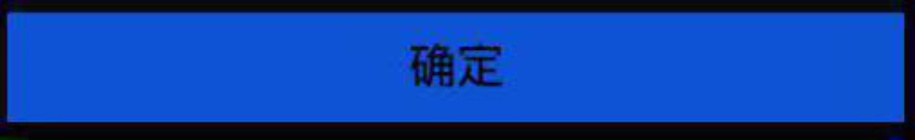Button: (1, 1, 914, 139)
